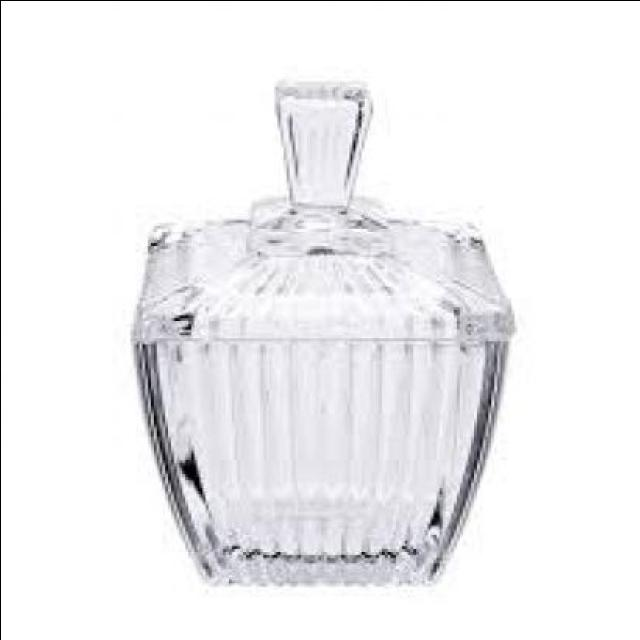kaca: (130, 78, 508, 586)
